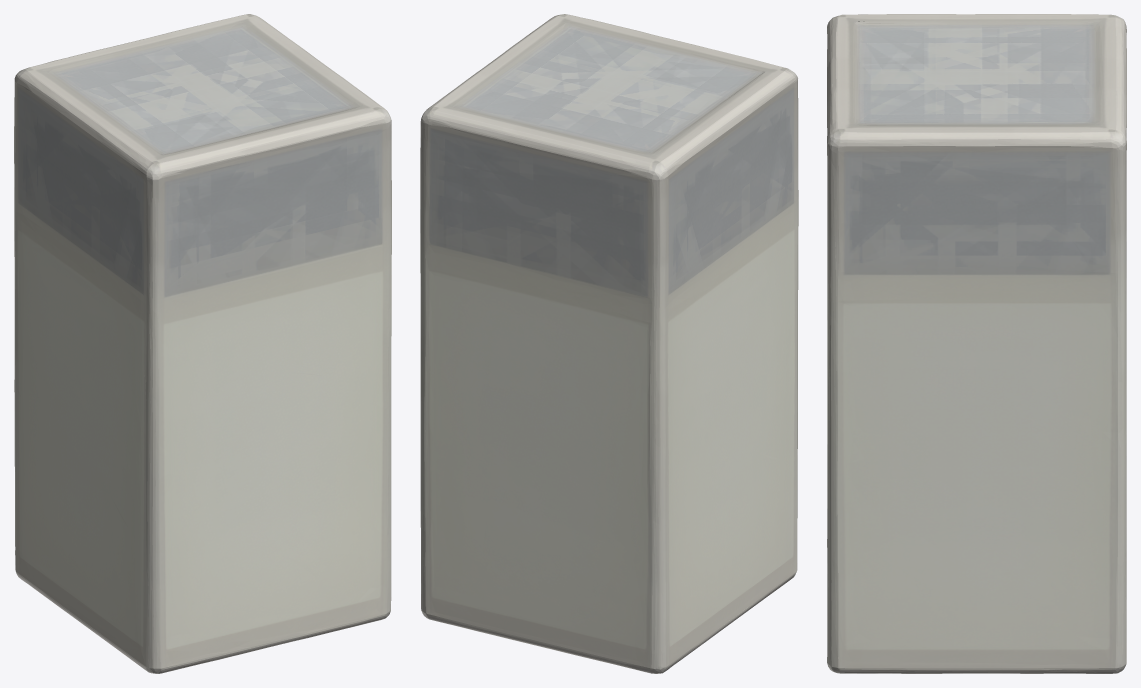
The model's file is showcase.glb.
The picture shows the model from 3 angles, left to right: view 1: azimuth 30°, elevation 25°; view 2: azimuth 150°, elevation 25°; view 3: azimuth 270°, elevation 25°; orthographic projection. The views are drawn at different scales.
Bounding box in the file's own units: 50.32 × 100 × 50.3.
1 material, 1 textured.
